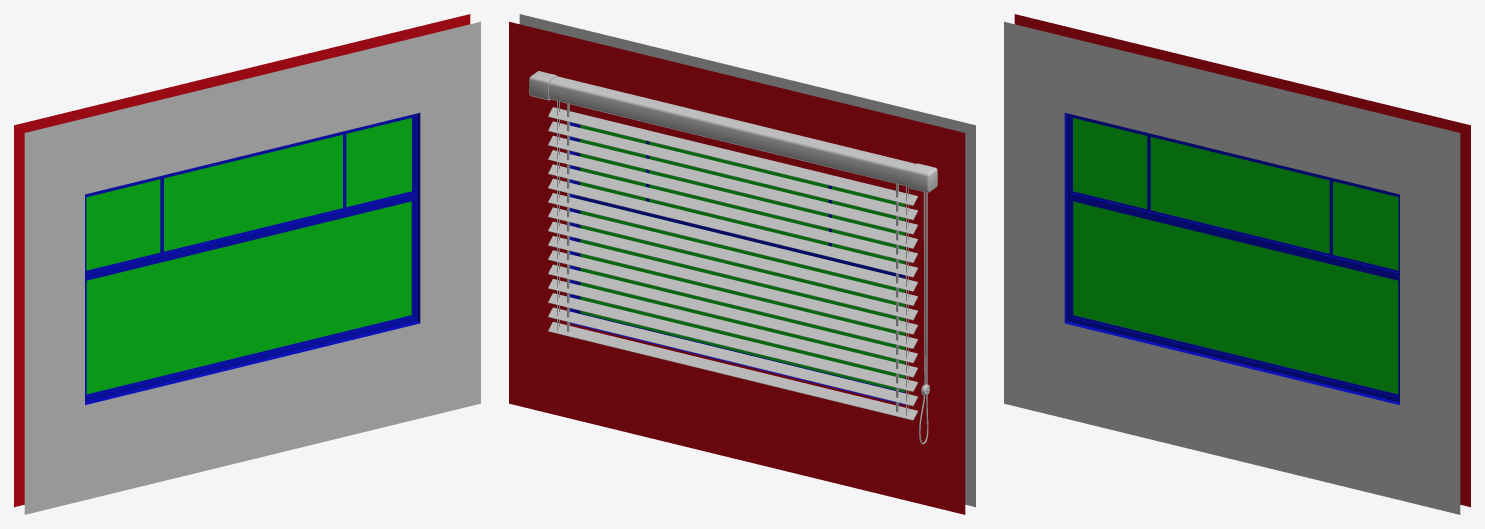
Rendered from Windows_1.fbx.
3 renders of one model, left to right at view 1: azimuth 30°, elevation 25°; view 2: azimuth 150°, elevation 25°; view 3: azimuth 330°, elevation 25°, orthographic.
Parts seen in each view (by area): view 1: Cube.006, Glass; view 2: Cube.006, Cube.010, Glass_2; view 3: Cube.006, Glass.
Part boxes in pixels (x1=…): Cube.006: x1=14, y1=14, x2=480, y2=514; Glass: x1=86, y1=118, x2=411, y2=394; Cube.006: x1=509, y1=14, x2=975, y2=514; Cube.010: x1=529, y1=71, x2=937, y2=444; Glass_2: x1=580, y1=125, x2=904, y2=392; Cube.006: x1=1004, y1=14, x2=1470, y2=514; Glass: x1=1073, y1=118, x2=1398, y2=394.
Bounding box in the file's own units: 5 × 4 × 0.3905.
